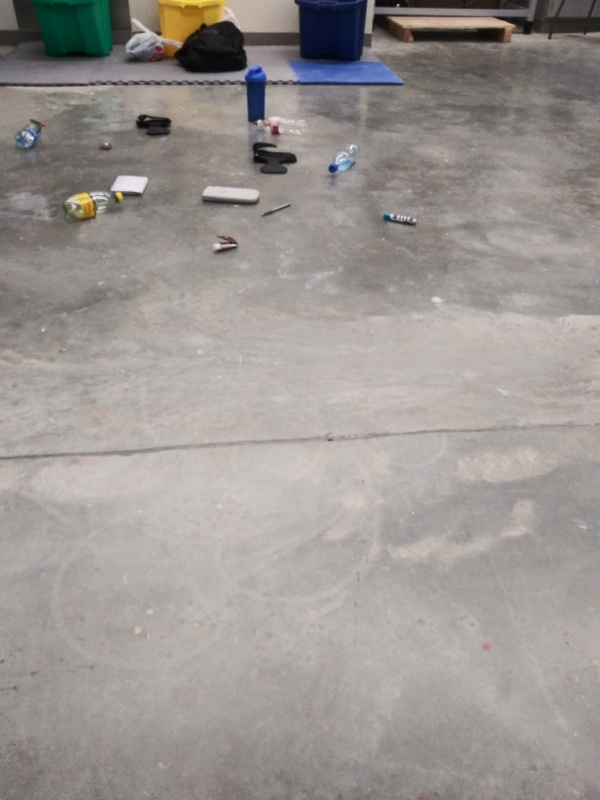bottle: (58, 187, 128, 223), (323, 137, 363, 179), (253, 115, 315, 139), (11, 121, 46, 154)
